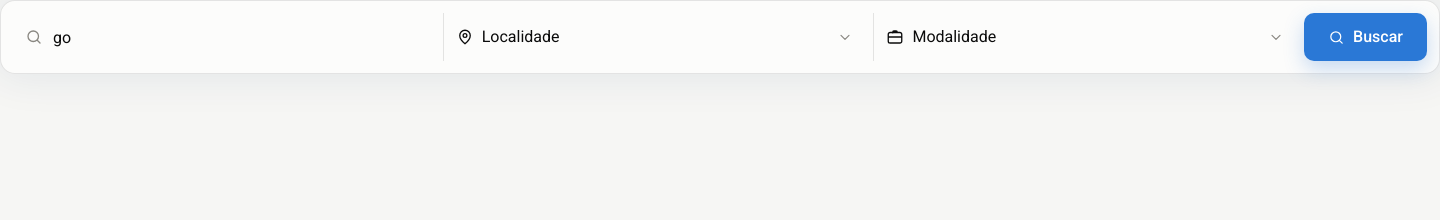
SearchForm autocomplete › applies a suggestion and runs the search
What coordinates should you click on to do the following:
click the dropdown named "Buscar por cargo"
I would click on:
 (237, 37)
Its box is x1=51 y1=13 x2=423 y2=61.
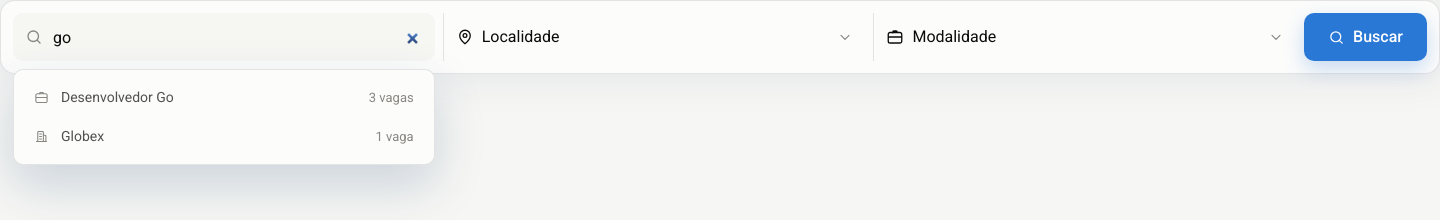
What coordinates should you click on to do the following:
click the option "Globex 1 vaga"
I would click on:
 (83, 136)
Its box is x1=34 y1=128 x2=414 y2=144.
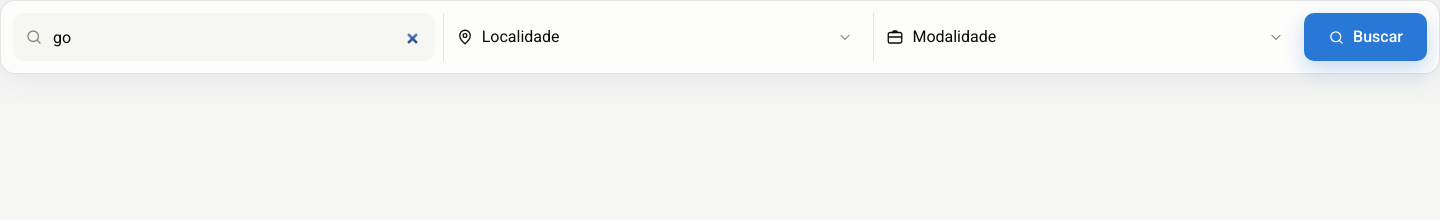
expect the list is gone: met
